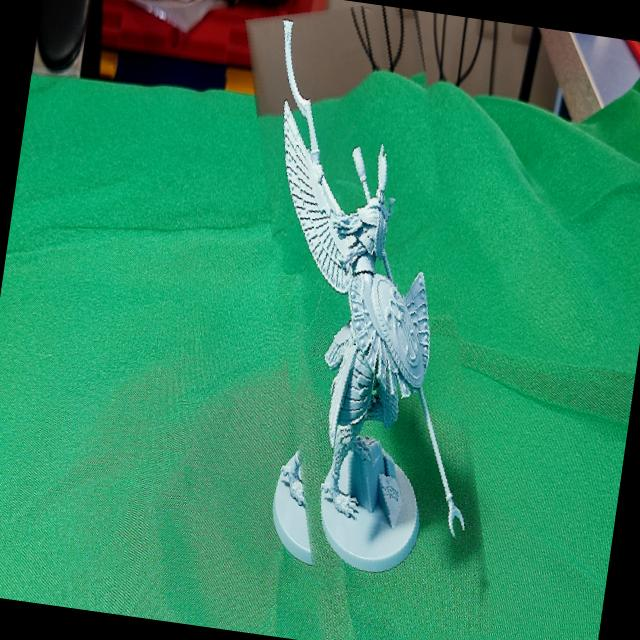isis: (200, 0, 539, 640)
